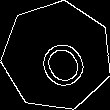O_NW: (25, 23, 88, 89)
